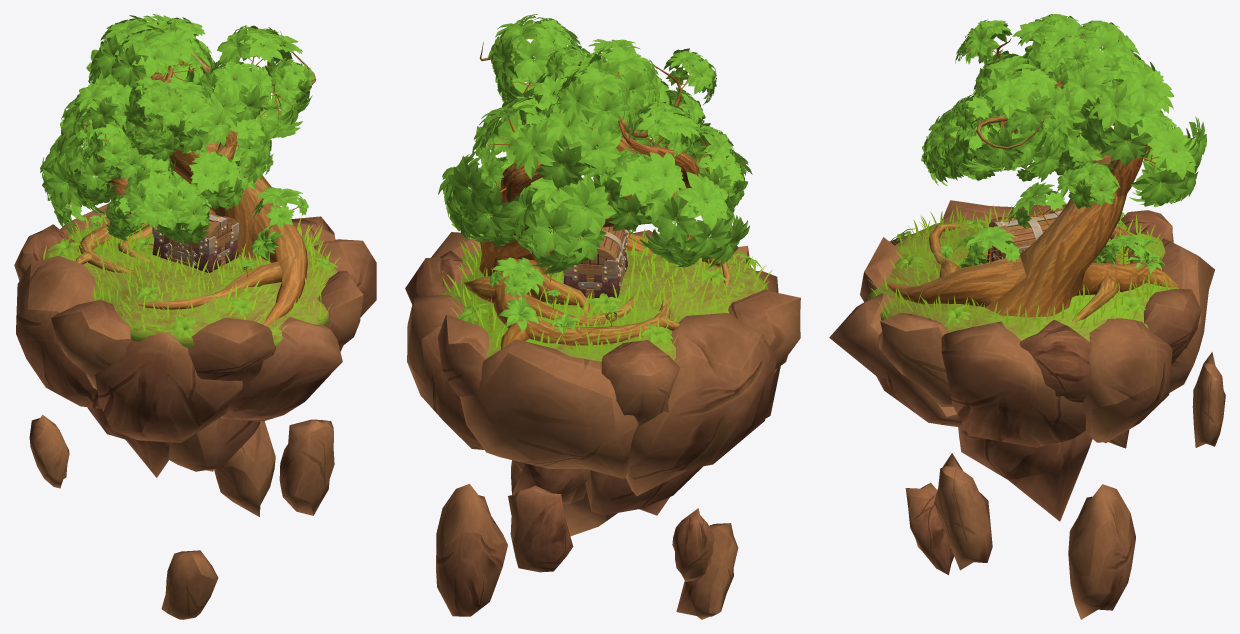
File: island.glb
3 renders of one model, left to right at view 1: azimuth 30°, elevation 25°; view 2: azimuth 150°, elevation 25°; view 3: azimuth 270°, elevation 25°, orthographic. The views are drawn at different scales.
Parts seen in each view (by area): view 1: Leaf_01_LP, Rock_02_LP, Rock_01_LP, Ground, Tree_01_LP, Grass_01, Plant_01_LP, Cloth_01_LP; view 2: Leaf_01_LP, Rock_01_LP, Rock_02_LP, Tree_01_LP, Ground, Grass_01, Plant_01_LP, Cloth_01_LP, Sticks_01; view 3: Leaf_01_LP, Rock_01_LP, Rock_02_LP, Tree_01_LP, Ground, Grass_01, Plant_01_LP, Top_05_LP.
Boxes of the visible parts, x1=… form: Leaf_01_LP: x1=40, y1=14, x2=314, y2=272; Rock_02_LP: x1=51, y1=271, x2=363, y2=619; Rock_01_LP: x1=14, y1=203, x2=376, y2=516; Ground: x1=42, y1=224, x2=337, y2=348; Tree_01_LP: x1=75, y1=22, x2=316, y2=325; Grass_01: x1=43, y1=213, x2=340, y2=332; Plant_01_LP: x1=48, y1=237, x2=337, y2=338; Cloth_01_LP: x1=152, y1=237, x2=238, y2=272; Leaf_01_LP: x1=438, y1=14, x2=752, y2=334; Rock_01_LP: x1=405, y1=232, x2=780, y2=616; Rock_02_LP: x1=437, y1=230, x2=800, y2=619; Tree_01_LP: x1=464, y1=42, x2=730, y2=348; Ground: x1=441, y1=244, x2=768, y2=361; Grass_01: x1=442, y1=228, x2=772, y2=355; Plant_01_LP: x1=458, y1=251, x2=761, y2=343; Cloth_01_LP: x1=563, y1=249, x2=627, y2=297; Sticks_01: x1=489, y1=39, x2=726, y2=327; Leaf_01_LP: x1=921, y1=14, x2=1206, y2=274; Rock_01_LP: x1=889, y1=204, x2=1214, y2=619; Rock_02_LP: x1=829, y1=200, x2=1225, y2=575; Tree_01_LP: x1=883, y1=33, x2=1177, y2=323; Ground: x1=868, y1=218, x2=1178, y2=341; Grass_01: x1=867, y1=204, x2=1172, y2=333; Plant_01_LP: x1=890, y1=215, x2=1145, y2=324; Top_05_LP: x1=1003, y1=213, x2=1055, y2=247.
Bounding box in the file's own units: 4.43 × 7.11 × 4.55.
Materials: 7 (7 with a texture image).
